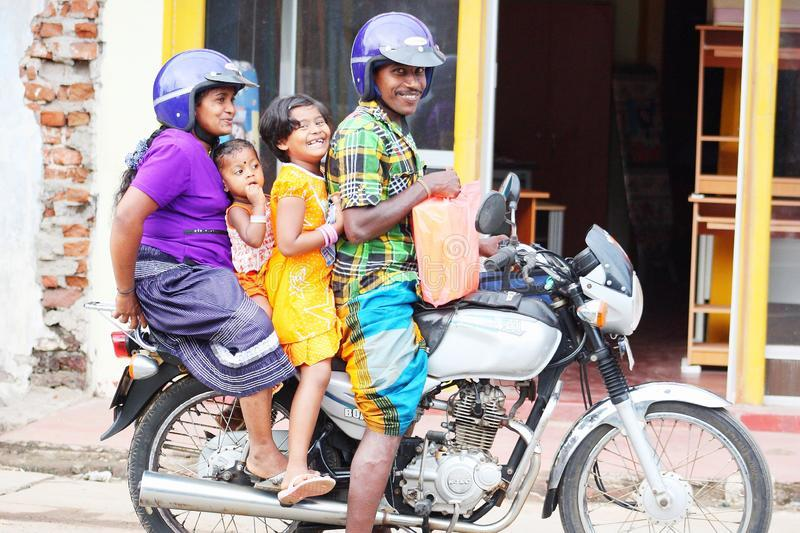motorbike: (99, 171, 771, 533)
